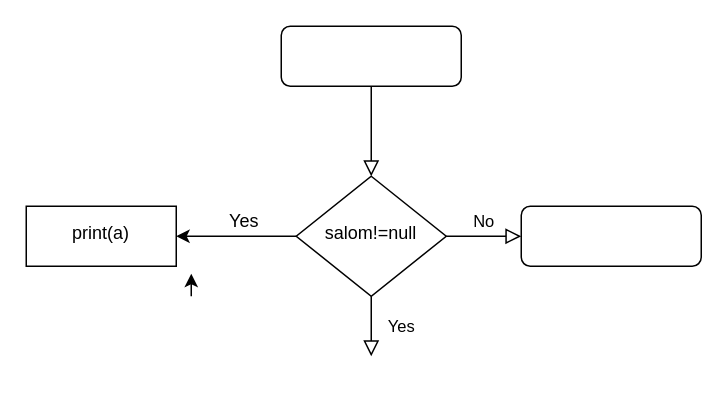
Image size: 728x398. Some labels were removed from this diagram. Each missing label, with the centre of its shape:
"Lamp doesn't work" goes at (370,55).
"Plug in lamp" goes at (610,235).
